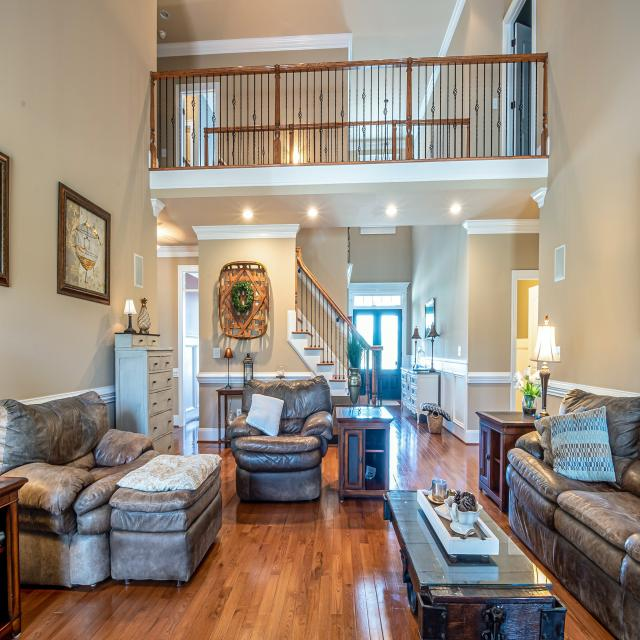floor: (0, 417, 421, 640), (383, 405, 619, 640)
wall: (531, 0, 640, 397), (196, 231, 312, 373), (468, 234, 539, 373), (350, 226, 412, 355), (411, 225, 469, 362), (157, 33, 352, 72), (58, 182, 111, 305), (296, 227, 348, 318), (157, 257, 198, 368), (219, 261, 268, 340), (445, 0, 512, 57), (465, 372, 511, 444), (433, 358, 468, 444), (517, 280, 539, 375), (198, 383, 228, 442), (536, 62, 544, 155), (531, 62, 536, 156), (105, 401, 116, 429), (230, 396, 242, 420), (331, 396, 350, 411), (173, 377, 179, 416), (220, 396, 225, 440), (227, 396, 232, 414), (360, 396, 367, 404)
